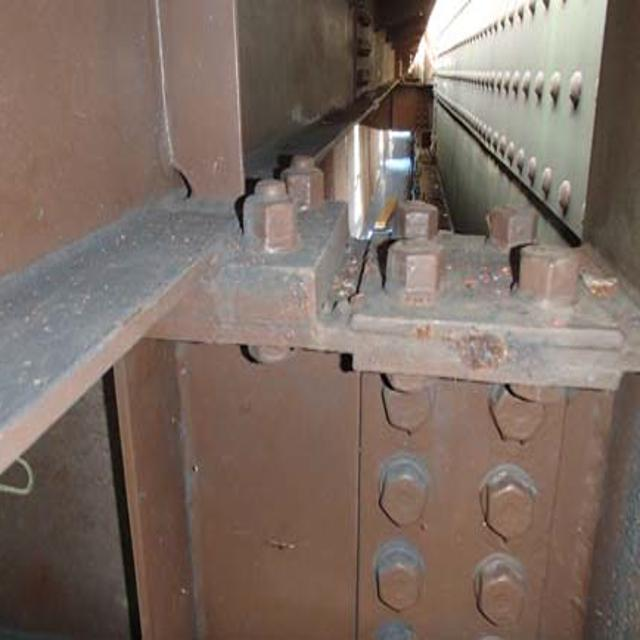corrosion: (367, 186, 606, 386)
